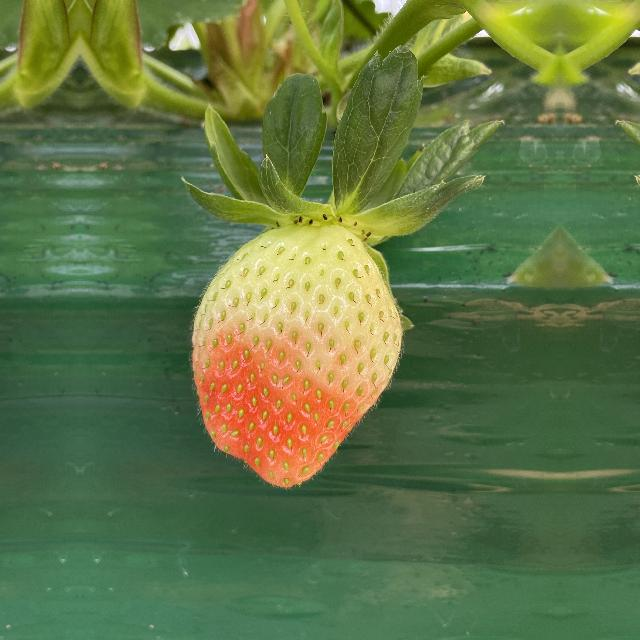Health_50: (186, 212, 414, 488)
